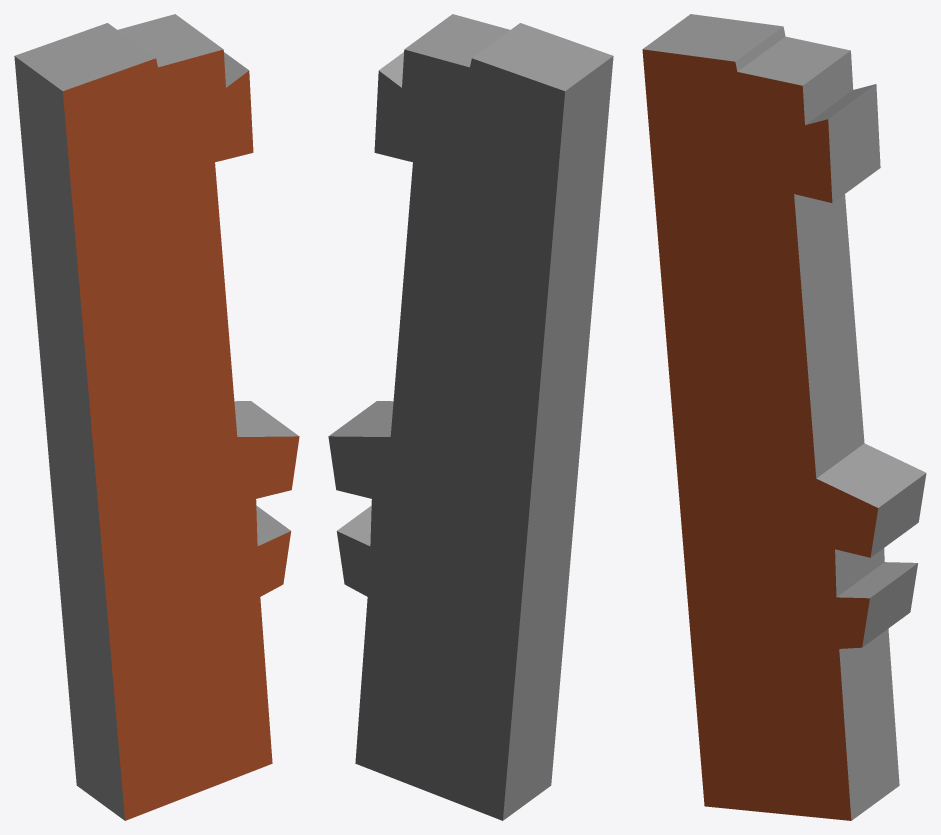
The model's file is construction_2657_assumed_A_Casa_h6m.obj.
3 views of the same model, side by side, from view 1: azimuth 30°, elevation 25°; view 2: azimuth 150°, elevation 25°; view 3: azimuth 330°, elevation 25° (orthographic).
Parts seen in each view (by area): view 1: construction_2657_assumed_A_Casa; view 2: construction_2657_assumed_A_Casa; view 3: construction_2657_assumed_A_Casa.
Part boxes in pixels (x1=…): construction_2657_assumed_A_Casa: x1=14, y1=14, x2=299, y2=820; construction_2657_assumed_A_Casa: x1=328, y1=14, x2=613, y2=820; construction_2657_assumed_A_Casa: x1=642, y1=14, x2=926, y2=820.
Size of the model in its own units: 16.94 by 51.64 by 6.
